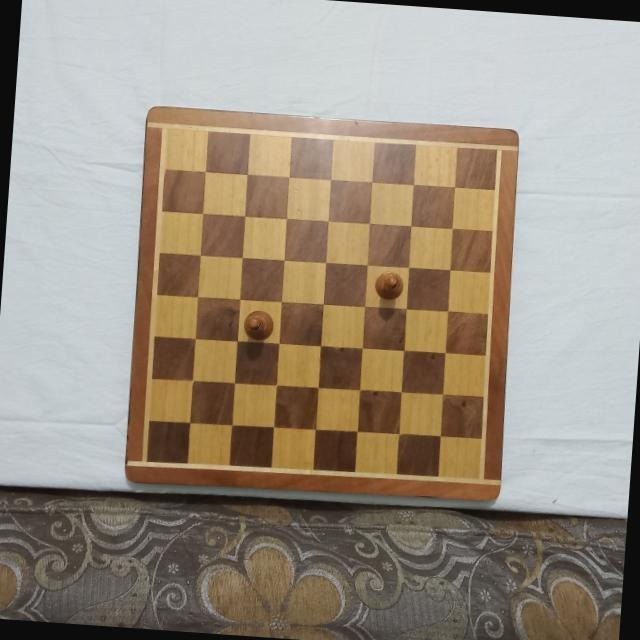white-bishop: (241, 308, 275, 344), (373, 268, 405, 300)
